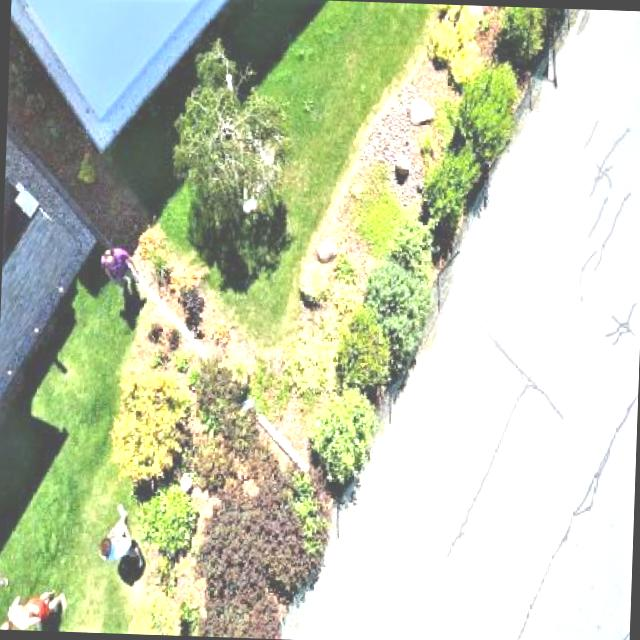Person: (90, 236, 148, 308), (0, 585, 75, 631), (92, 499, 142, 565)
